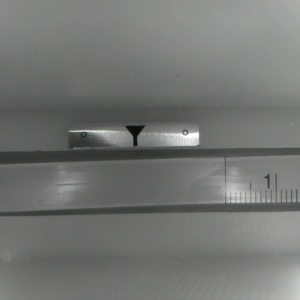1: (263, 173, 270, 189)
finger: (124, 126, 144, 144)
